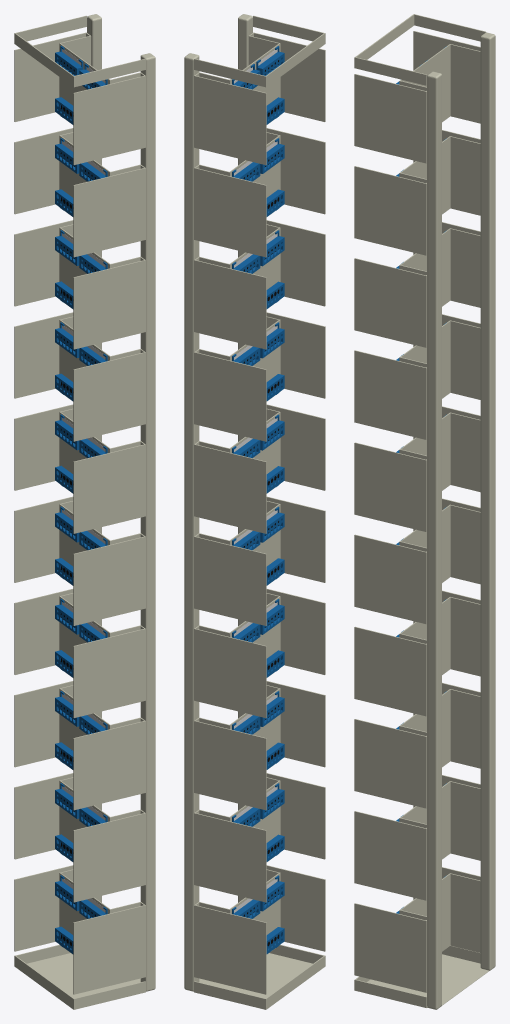
The model's file is DDF.FBX.
3 renders of one model, left to right at view 1: azimuth 30°, elevation 25°; view 2: azimuth 150°, elevation 25°; view 3: azimuth 330°, elevation 25°, orthographic.
Parts seen in each view (by area): view 1: DDF机架0.3*0.24*2.6; view 2: DDF机架0.3*0.24*2.6; view 3: DDF机架0.3*0.24*2.6.
Boxes of the visible parts, x1=… form: DDF机架0.3*0.24*2.6: x1=14, y1=14, x2=155, y2=1009; DDF机架0.3*0.24*2.6: x1=184, y1=14, x2=325, y2=1009; DDF机架0.3*0.24*2.6: x1=354, y1=14, x2=495, y2=1009.
Size of the model in its own units: 240 by 2600 by 300.
